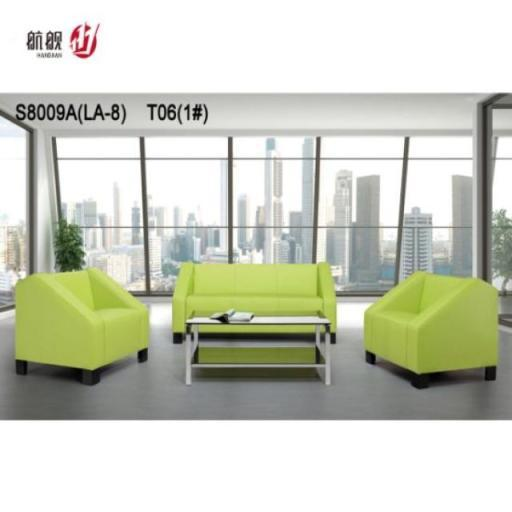sofa: (353, 251, 512, 429), (18, 252, 176, 402)
